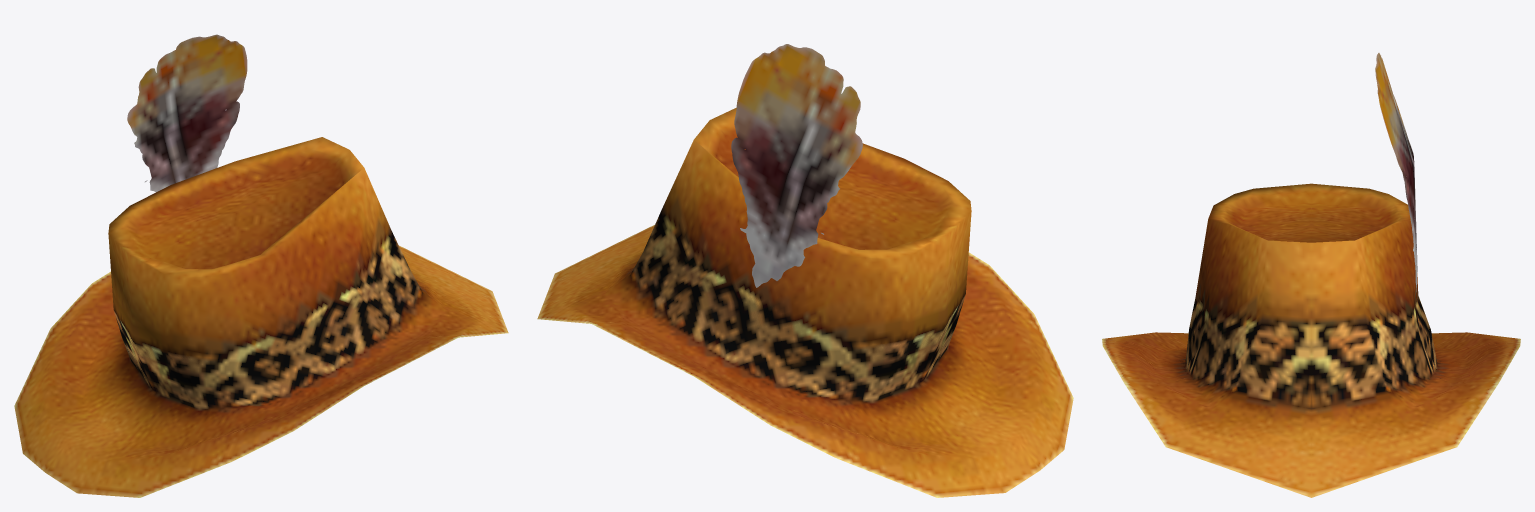
File: hat_0450009.FBX
3 views of the same model, side by side, from view 1: azimuth 30°, elevation 25°; view 2: azimuth 150°, elevation 25°; view 3: azimuth 270°, elevation 25° (orthographic). The views are drawn at different scales.
Visible parts, largest first — view 1: hat_0450009; view 2: hat_0450009; view 3: hat_0450009.
Boxes of the visible parts, bbox=[...] form: hat_0450009: bbox=[14, 34, 508, 497]; hat_0450009: bbox=[537, 44, 1073, 497]; hat_0450009: bbox=[1102, 53, 1520, 497].
Size of the model in its own units: 45.83 by 37.44 by 35.81.
